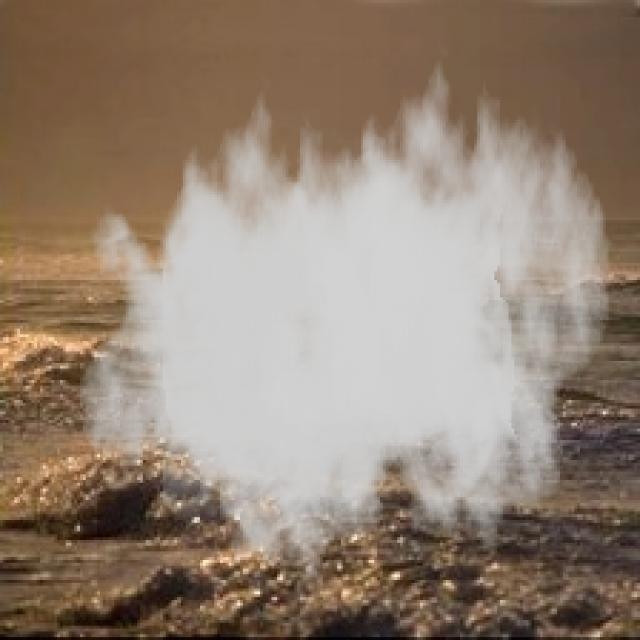smoke: (77, 37, 612, 594)
